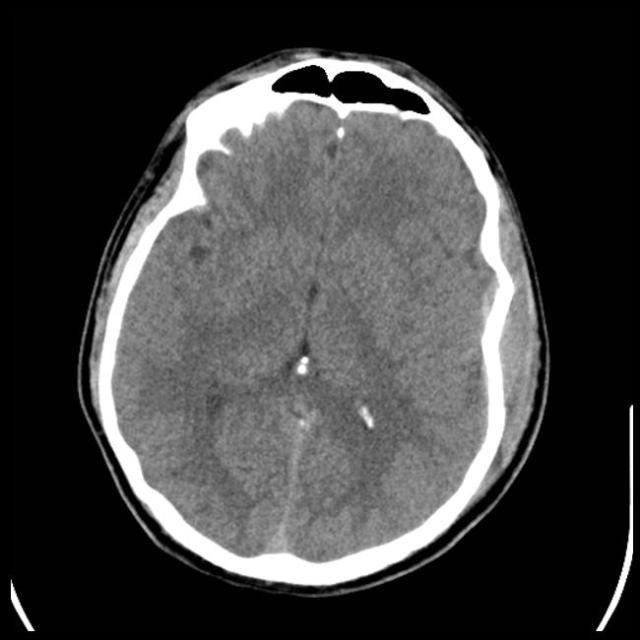lesion: (80, 50, 546, 588)
